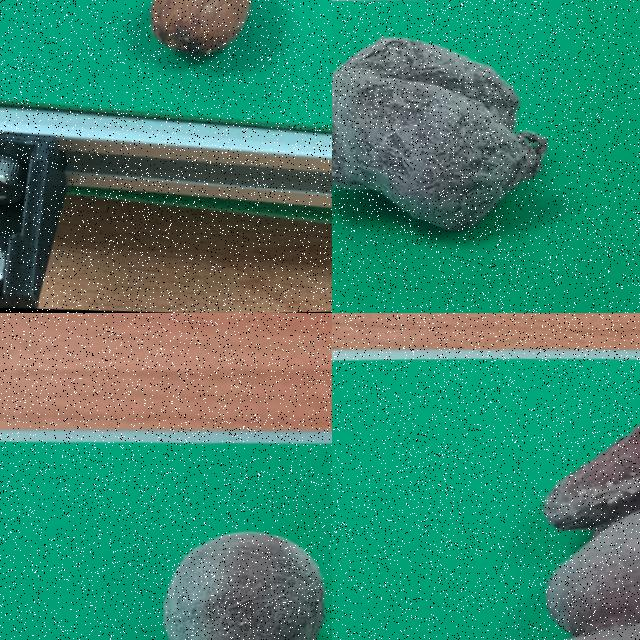Agglomerated_cocoabeans: (332, 0, 627, 280), (427, 343, 639, 639), (46, 477, 331, 639)
Fine_cocoabeans: (59, 0, 331, 106)
